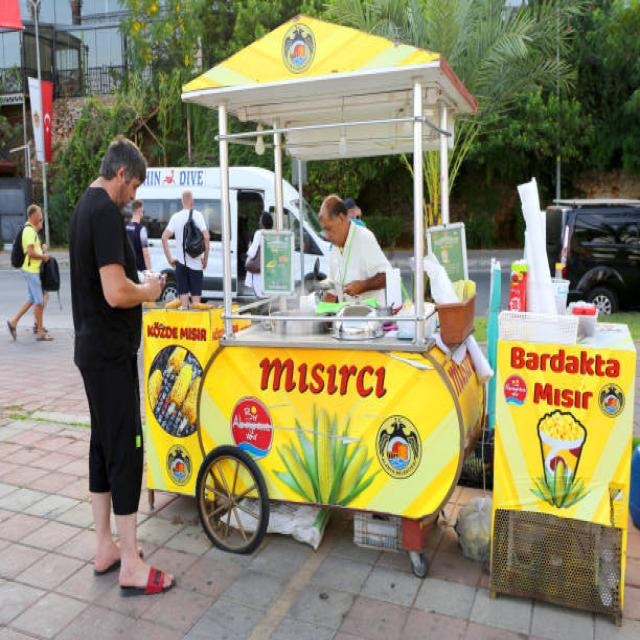Emperan: (117, 2, 640, 626)
